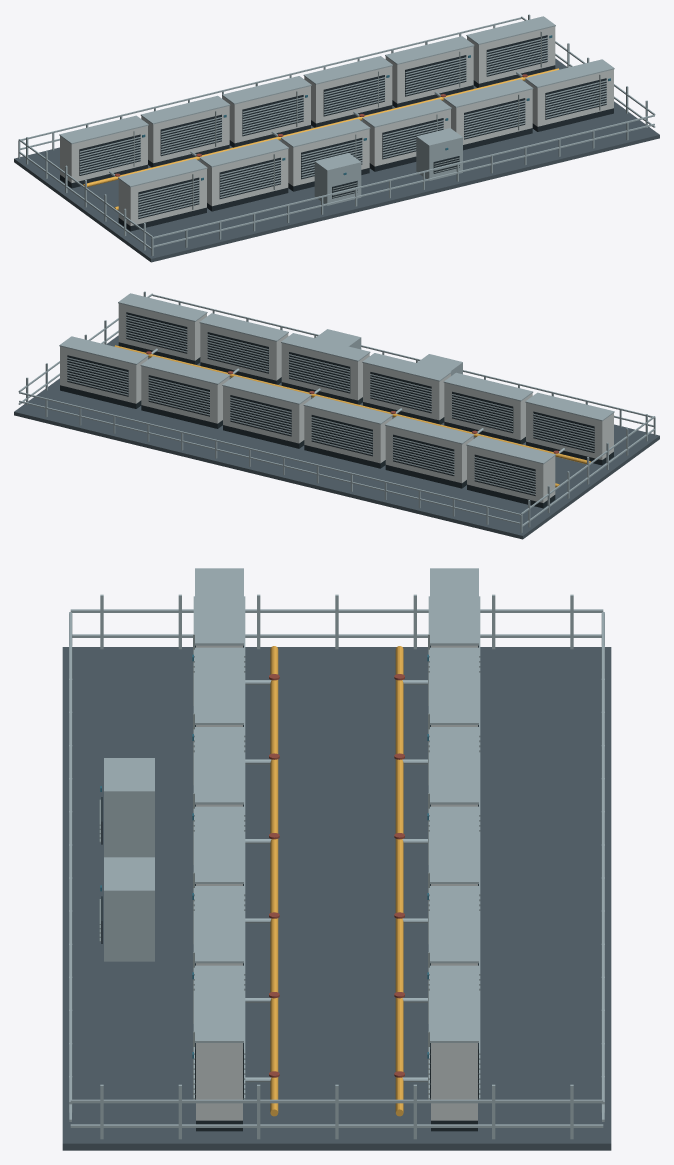
The model's file is fuel-cell-yard.glb.
3 views of the same model, one above another, from view 1: azimuth 30°, elevation 25°; view 2: azimuth 150°, elevation 25°; view 3: azimuth 270°, elevation 25° (orthographic). The views are drawn at different scales.
Visible parts, largest first — view 1: FuelCellModules, Site, Electrical, GasPipes; view 2: FuelCellModules, Site, GasPipes, Electrical; view 3: Site, FuelCellModules, Electrical, GasPipes.
Part boxes in pixels (left/top/right/bottom): FuelCellModules: left=59, top=16, right=614, bottom=231; Site: left=14, top=14, right=659, bottom=262; Electrical: left=314, top=128, right=462, bottom=205; GasPipes: left=83, top=68, right=559, bottom=210; FuelCellModules: left=59, top=293, right=614, bottom=508; Site: left=14, top=291, right=659, bottom=539; GasPipes: left=114, top=345, right=590, bottom=487; Electrical: left=315, top=329, right=462, bottom=375; Site: left=62, top=594, right=611, bottom=1150; FuelCellModules: left=192, top=568, right=480, bottom=1131; Electrical: left=99, top=758, right=154, bottom=961; GasPipes: left=245, top=646, right=427, bottom=1116.
Size of the model in its own units: 30 by 2.76 by 14.
